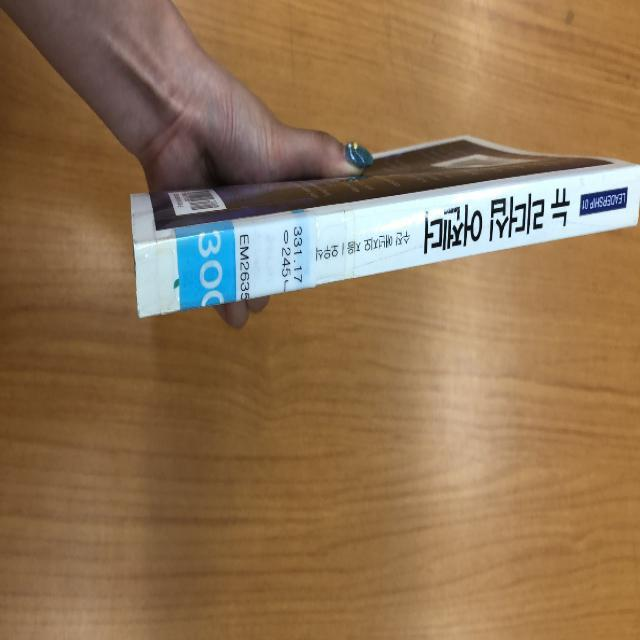Wornout: (131, 238, 142, 323)
